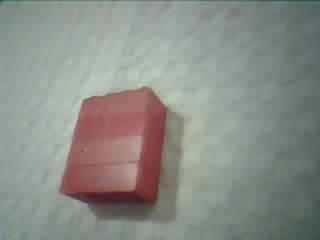lego: (56, 85, 167, 206)
